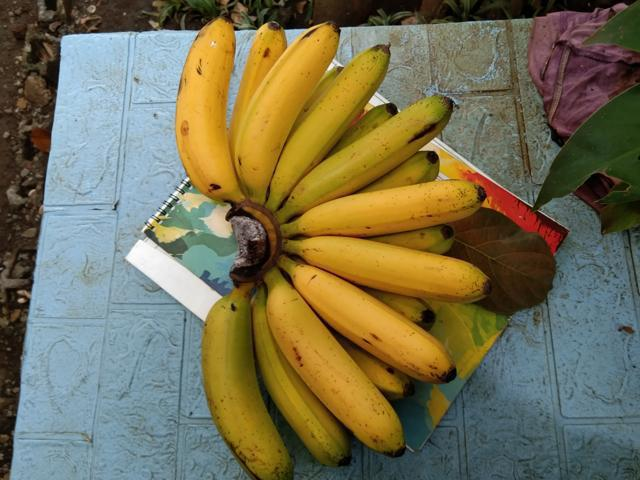freshripe: (267, 284, 418, 460), (291, 259, 459, 395), (269, 36, 395, 200), (230, 18, 336, 195), (300, 164, 491, 244), (304, 230, 489, 306)
ripe: (181, 283, 300, 475), (170, 14, 245, 199)
